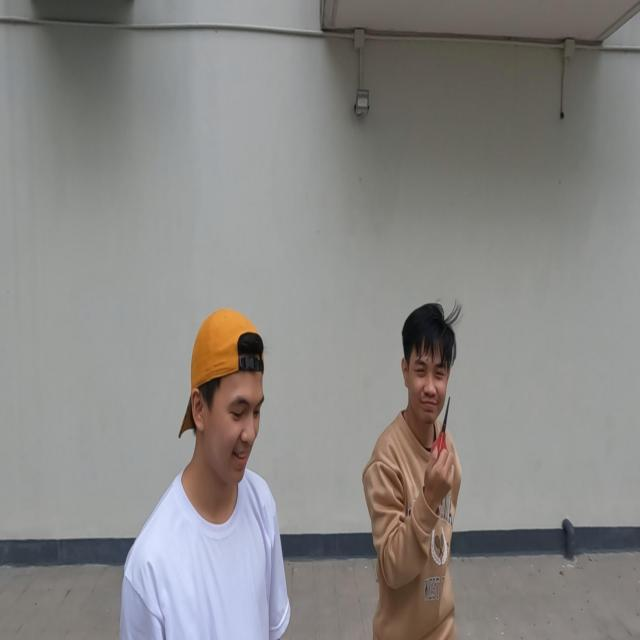scissor: (430, 395, 451, 468)
